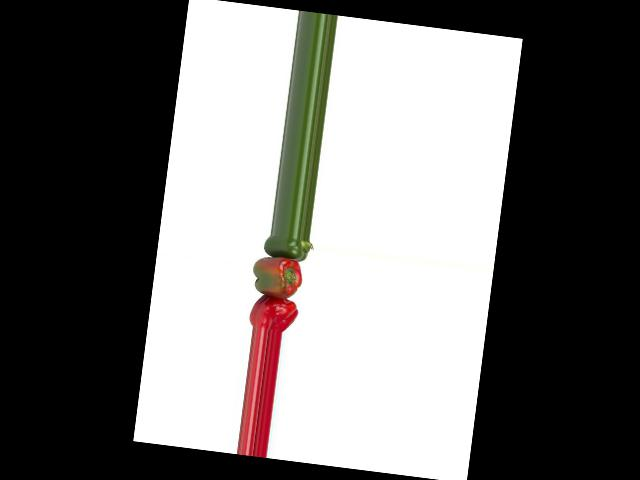bell_pepper: (245, 292, 303, 334)
